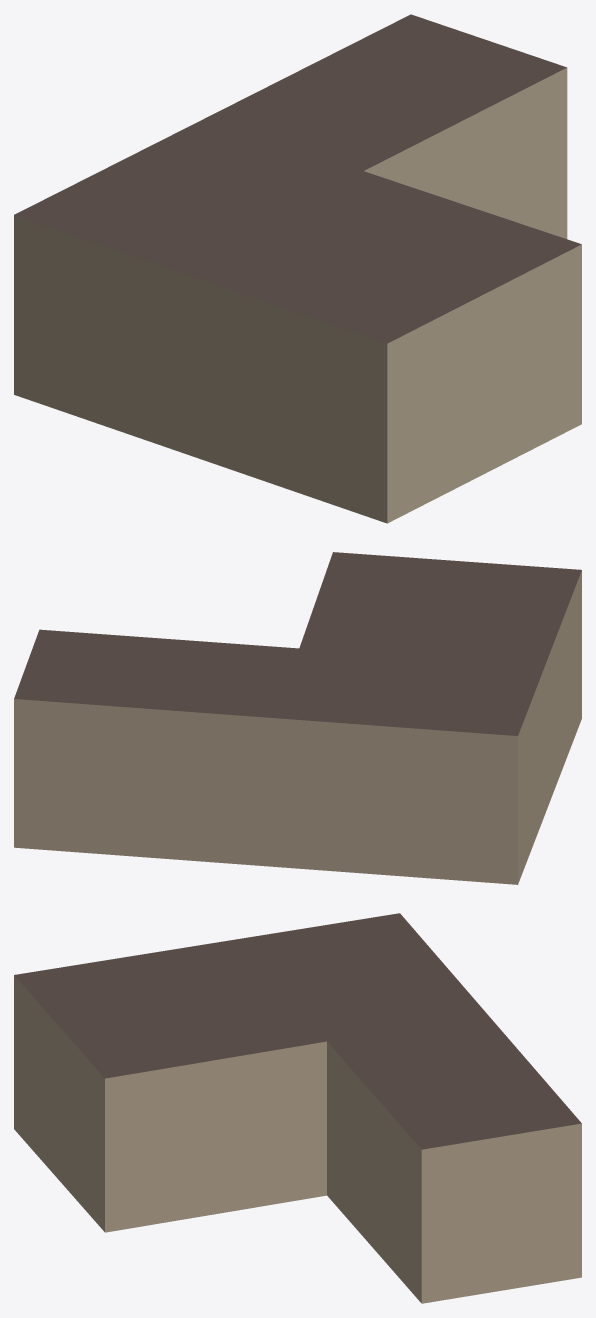
3 views of the same model, one above another, from view 1: azimuth 30°, elevation 25°; view 2: azimuth 150°, elevation 25°; view 3: azimuth 270°, elevation 25° (orthographic). The views are drawn at different scales.
Visible parts, largest first — view 1: HP-w757482003; view 2: HP-w757482003; view 3: HP-w757482003.
Part boxes in pixels (x1,y1,x2,y2): HP-w757482003: [14, 14, 581, 523]; HP-w757482003: [14, 552, 581, 884]; HP-w757482003: [14, 913, 581, 1303].
Bounding box in the file's own units: 29.63 × 9 × 30.07.
